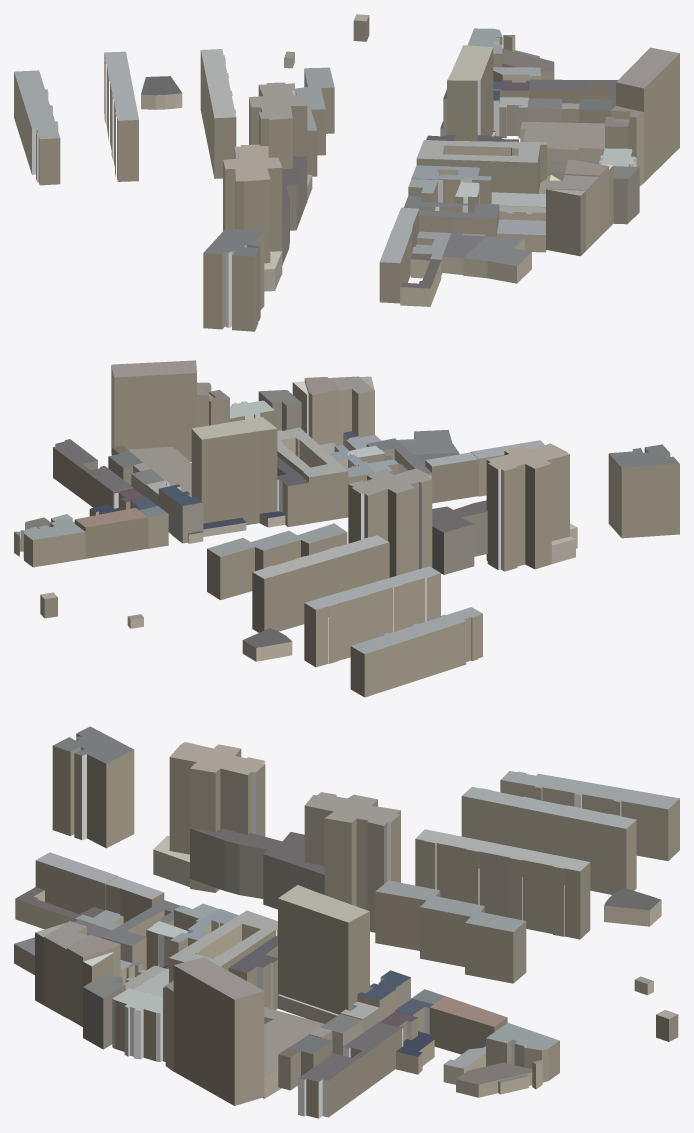
3 renders of one model, top to bottom at view 1: azimuth 30°, elevation 25°; view 2: azimuth 150°, elevation 25°; view 3: azimuth 270°, elevation 25°, orthographic. The views are drawn at different scales.
Visible parts, largest first — view 1: tuile; view 2: tuile; view 3: tuile.
Part boxes in pixels (box(x1,y1,x2,y2)): tuile: box(14, 14, 679, 331); tuile: box(14, 360, 679, 697); tuile: box(14, 726, 679, 1118).
Bounding box in the file's own units: 291 × 53.04 × 265.
